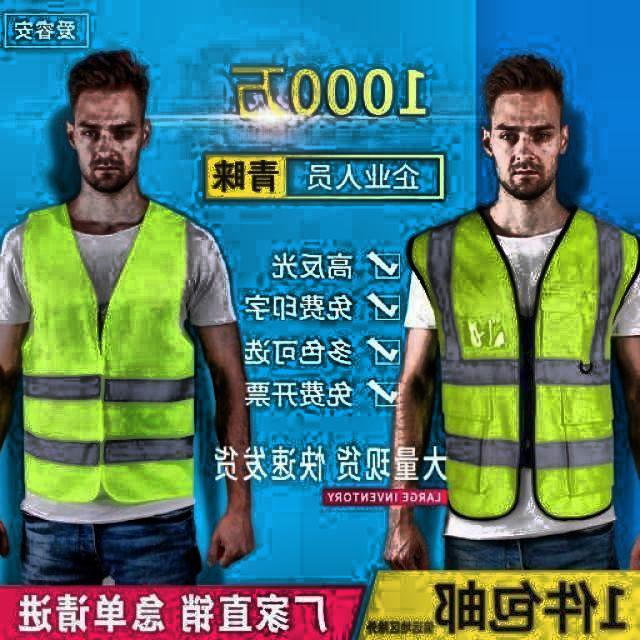safety_jacket: (409, 205, 639, 523), (11, 203, 200, 501)
